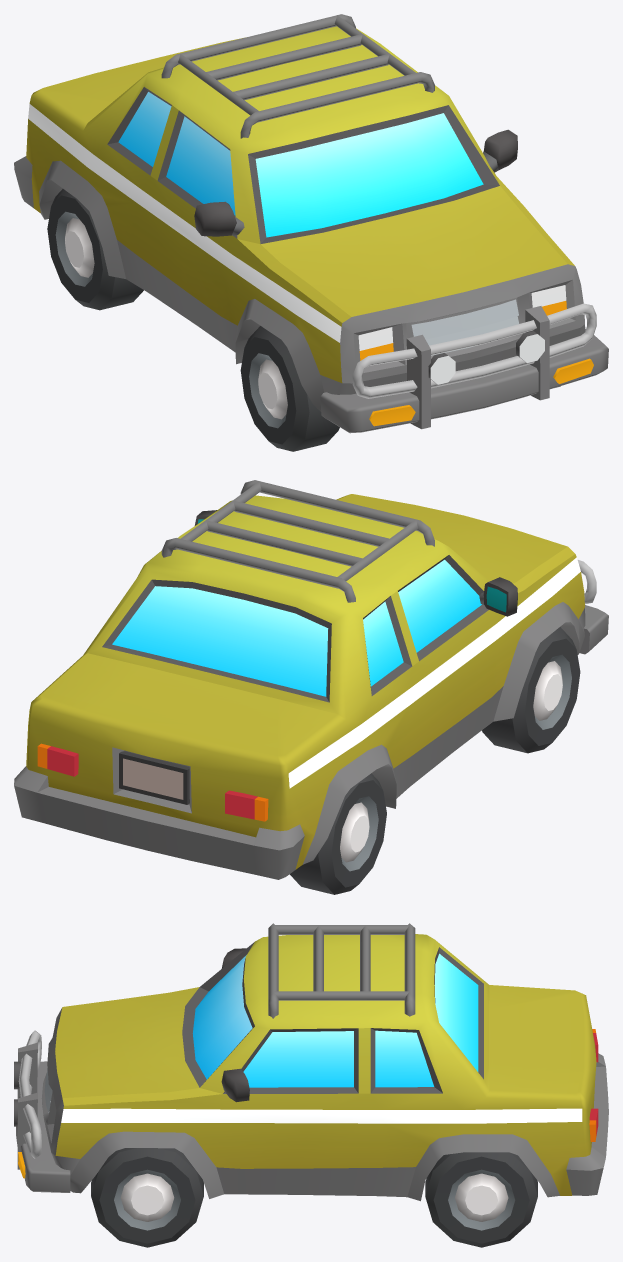
The model's file is Car_22.glb.
The picture shows the model from 3 angles, top to bottom: view 1: azimuth 30°, elevation 25°; view 2: azimuth 150°, elevation 25°; view 3: azimuth 270°, elevation 25°; orthographic projection. The views are drawn at different scales.
Parts seen in each view (by area): view 1: Car_22, Wheel_101, Wheel_102; view 2: Car_22, Wheel_101, Wheel_102; view 3: Car_22, Wheel_103, Wheel_104.
Part boxes in pixels (x1=…): Car_22: x1=14, y1=14, x2=608, y2=433; Wheel_101: x1=240, y1=326, x2=339, y2=451; Wheel_102: x1=47, y1=189, x2=143, y2=310; Car_22: x1=14, y1=480, x2=608, y2=879; Wheel_101: x1=482, y1=627, x2=580, y2=753; Wheel_102: x1=289, y1=773, x2=386, y2=894; Car_22: x1=14, y1=923, x2=608, y2=1201; Wheel_103: x1=91, y1=1148, x2=203, y2=1247; Wheel_104: x1=425, y1=1152, x2=537, y2=1247.
Size of the model in its own units: 2.38 by 1.93 by 4.47.
Materials: 2 (2 with a texture image).
